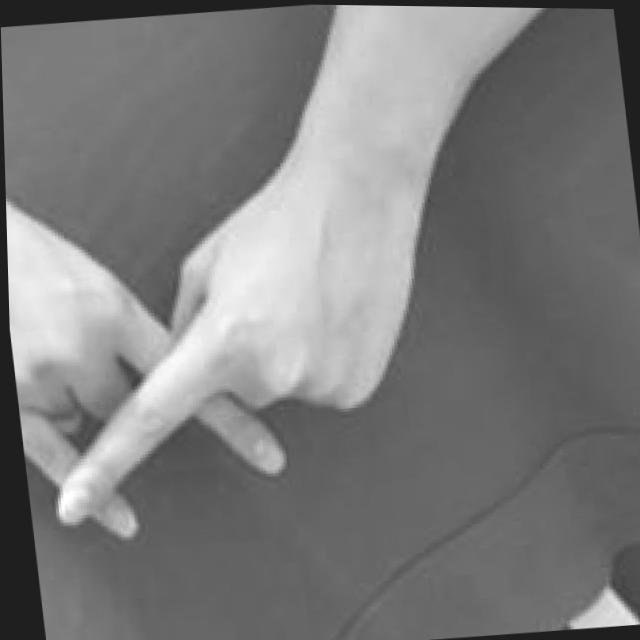H: (0, 0, 640, 555)
